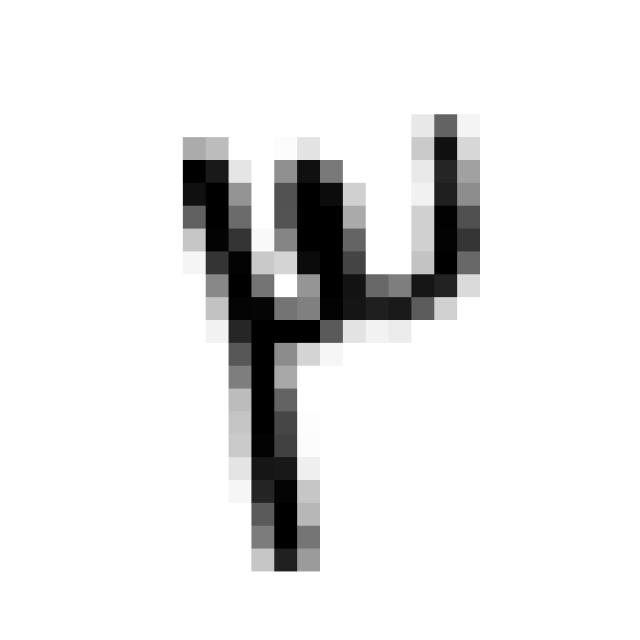3 -three-: (158, 89, 495, 594)
